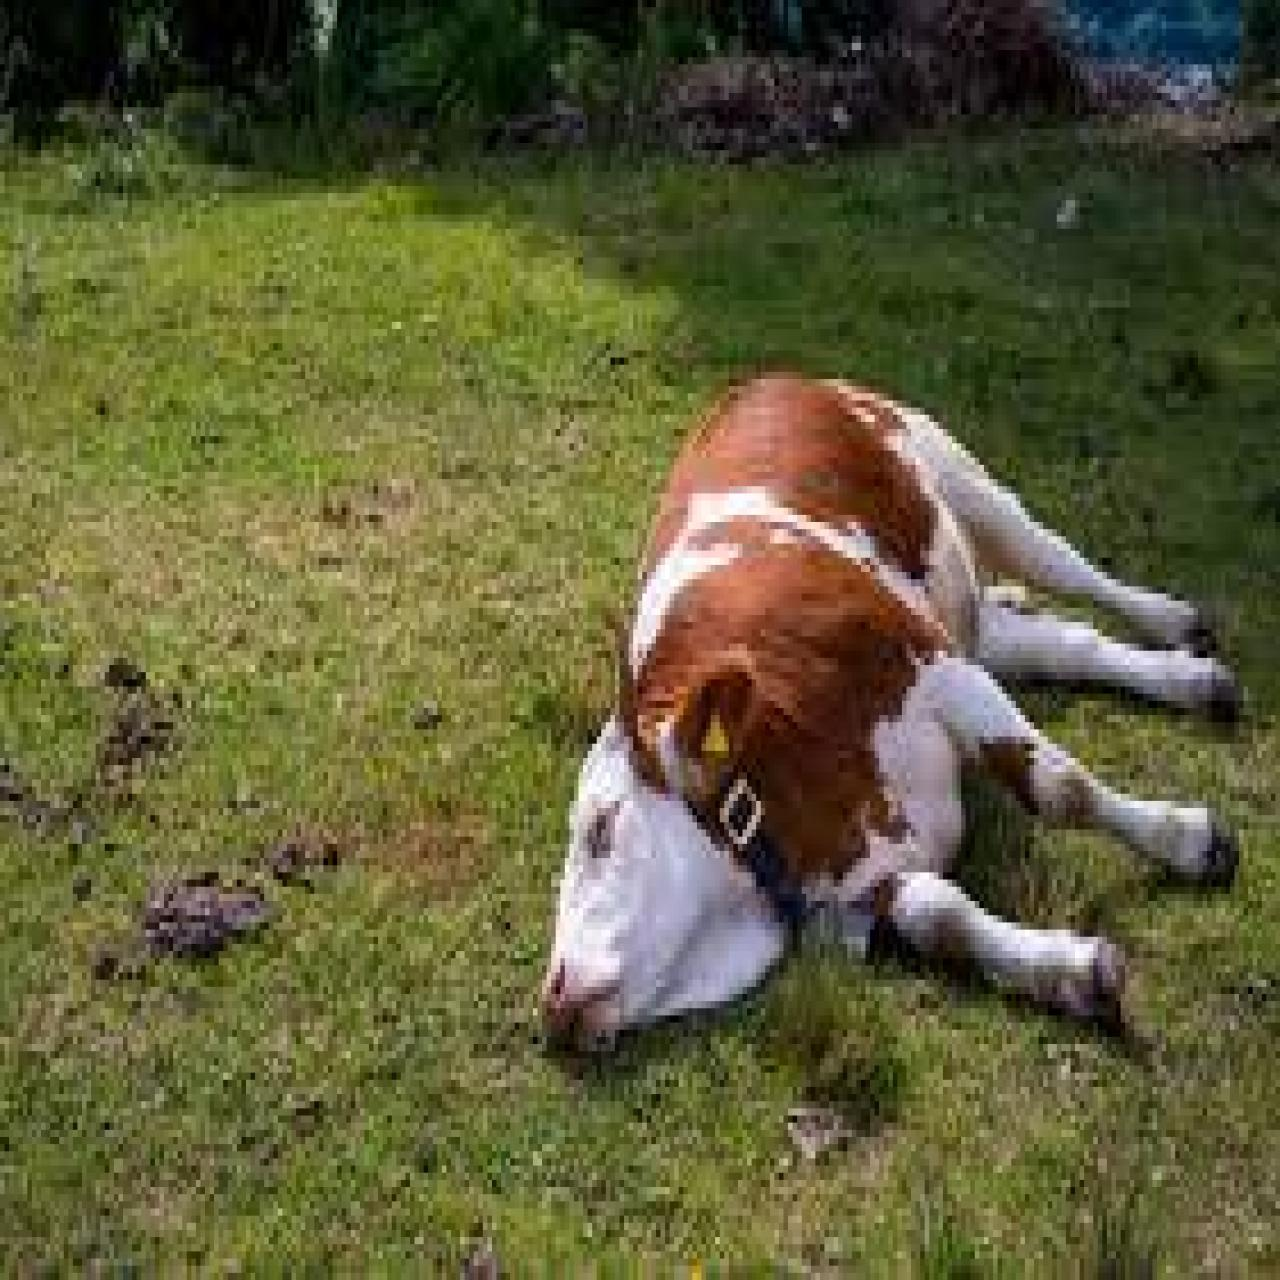cow: (544, 368, 1246, 1062)
